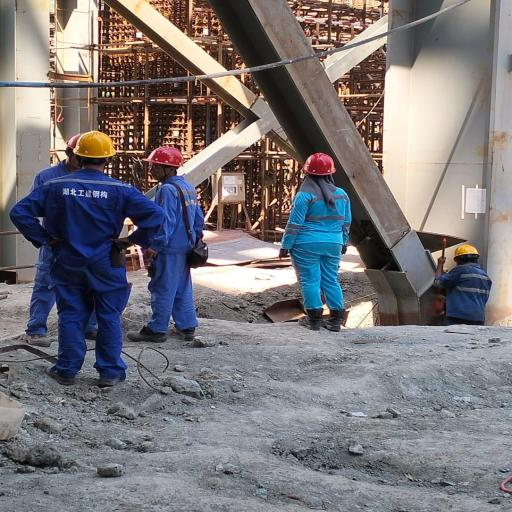safety_shoe: (125, 323, 166, 343), (41, 362, 73, 384), (95, 365, 126, 386), (294, 307, 322, 329), (21, 327, 53, 346), (172, 322, 200, 341), (323, 309, 345, 331)
